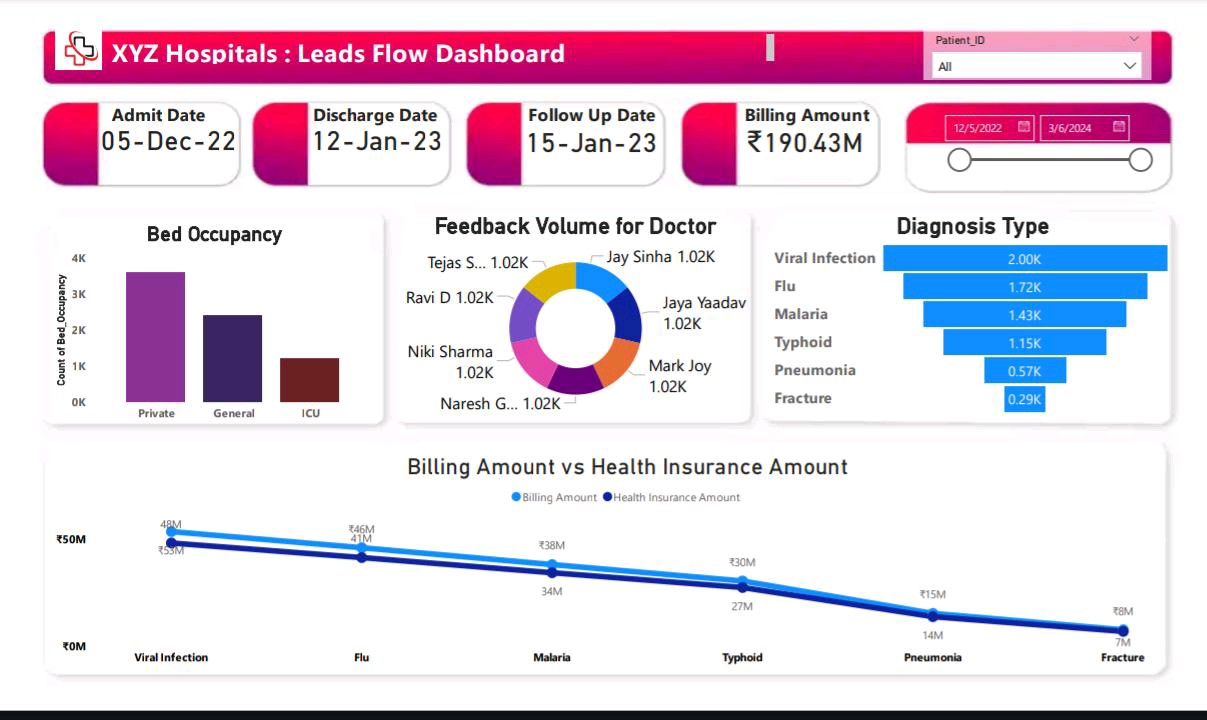

What the dashboard file says about the page in this screenshot:
{"tool":"powerbi","page":{"name":"Page 1","canvas":[1280,720],"ordinal":0},"visuals":[{"type":"image","box":[42,0,60.5,67.2],"z":0},{"type":"textbox","box":[103.5,12.8,720,42.5],"z":1000},{"type":"slicer","fields":{"Values":["Sheet1.Patient_ID"]},"box":[979.3,13.4,243.6,53.8],"z":2000},{"type":"card","fields":{"Values":["Sheet1.Admit_Date"]},"box":[89.3,103.5,160.2,55.3],"z":3000},{"type":"textbox","box":[103.5,86.5,123.3,35.4],"z":4000},{"type":"textbox","box":[318.9,86.5,164.4,35.4],"z":5000},{"type":"card","fields":{"Values":["Sheet1.Discharge_Date"]},"box":[306.1,103.5,172.9,55.3],"z":6000},{"type":"textbox","box":[549.9,86.5,172.9,35.4],"z":7000},{"type":"card","fields":{"Values":["Sheet1.Followup Date"]},"box":[535.7,104.9,172.9,55.3],"z":8000},{"type":"textbox","box":[782.4,86.5,182.8,35.4],"z":9000},{"type":"card","fields":{"Values":["Sheet1.Billing Amount"]},"box":[765.4,104.9,172.9,55.3],"z":10000},{"type":"slicer","fields":{"Values":["Sheet1.Admit_Date"]},"box":[989.3,95,243.8,73.7],"z":11000},{"type":"columnChart","title":"Bed Occupancy","fields":{"Category":["Sheet1.Bed_Occupancy"],"Y":["Sheet1.Bed_Occupancy"]},"box":[42.5,219.7,350.1,222.5],"z":12000},{"type":"donutChart","title":"Feedback Volume for Doctor","fields":{"Category":["Sheet1.Doctor"],"Y":["Sheet1.Doctor"]},"box":[412.4,209.8,386.9,221.1],"z":13000},{"type":"funnel","title":"Diagnosis Type","fields":{"Category":["Sheet1.Diagnosis"],"Y":["Sheet1.Diagnosis"]},"box":[813.5,209.8,436.5,221.1],"z":14000},{"type":"lineChart","title":"Billing Amount vs Health Insurance Amount","fields":{"Y":["Sheet1.Billing Amount","Sheet1.Health Insurance Amount"],"Category":["Sheet1.Diagnosis"]},"box":[42.5,467.7,1237.3,236.7],"z":15000}]}

Visuals, with their boxes on the page's 1280x720 design canvas (x1, y1, x2, y2). These are canvas units, not pixel positions in the 1207x720 screenshot, which may show the page scaled, cropped or inside an application window:
image: <box>42,0,102,67</box>
textbox: <box>104,13,824,55</box>
slicer - Sheet1.Patient_ID: <box>979,13,1223,67</box>
card - Sheet1.Admit_Date: <box>89,104,250,159</box>
textbox: <box>104,86,227,122</box>
textbox: <box>319,86,483,122</box>
card - Sheet1.Discharge_Date: <box>306,104,479,159</box>
textbox: <box>550,86,723,122</box>
card - Sheet1.Followup Date: <box>536,105,709,160</box>
textbox: <box>782,86,965,122</box>
card - Sheet1.Billing Amount: <box>765,105,938,160</box>
slicer - Sheet1.Admit_Date: <box>989,95,1233,169</box>
"Bed Occupancy" columnChart: <box>42,220,393,442</box>
"Feedback Volume for Doctor" donutChart: <box>412,210,799,431</box>
"Diagnosis Type" funnel: <box>814,210,1250,431</box>
"Billing Amount vs Health Insurance Amount" lineChart: <box>42,468,1280,704</box>
